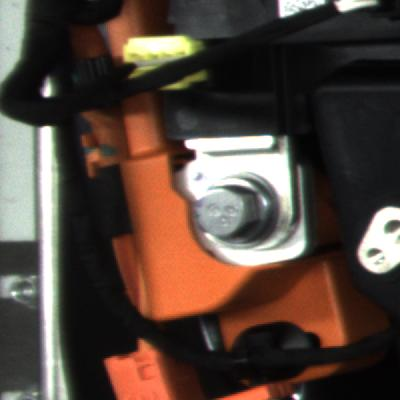nut_b: (190, 165, 282, 250)
